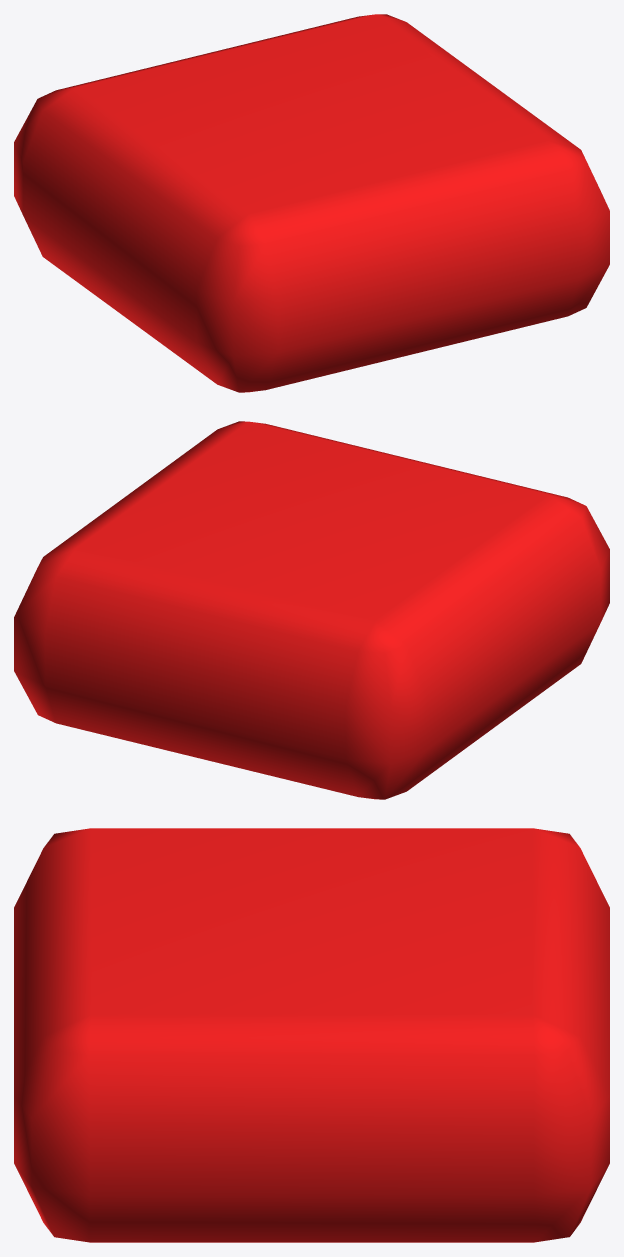
The model's file is SM_Jump_Pad_1m_01.fbx.
The picture shows the model from 3 angles, top to bottom: view 1: azimuth 30°, elevation 25°; view 2: azimuth 150°, elevation 25°; view 3: azimuth 270°, elevation 25°; orthographic projection. The views are drawn at different scales.
Parts seen in each view (by area): view 1: pCube478; view 2: pCube478; view 3: pCube478.
Part boxes in pixels (x1,y1,x2,y2): pCube478: [14, 14, 609, 392]; pCube478: [14, 421, 609, 799]; pCube478: [14, 828, 609, 1242].
Bounding box in the file's own units: 94.63 × 40 × 94.63.
Materials: 1 (1 with a texture image).
